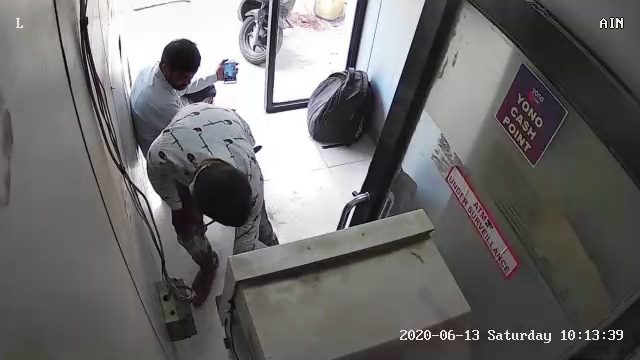open: (229, 3, 408, 173)
